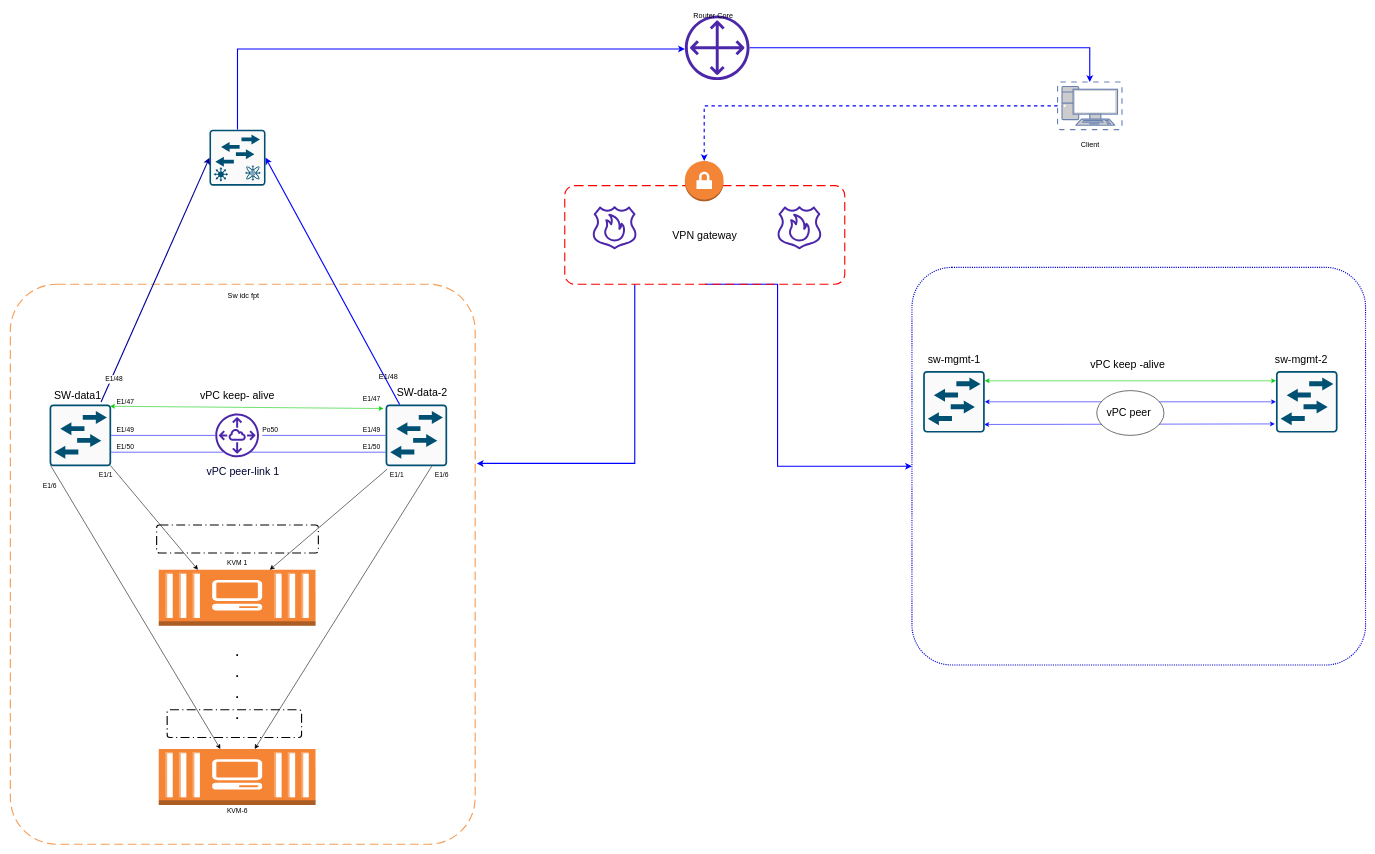
Image size: 1375x854. Some labels were removed from this diagram. The shapes that lost their labels are listed below. From the top down, each one's box as (x1, y1, x2, y2) in pixels, then its label:
(156, 524, 319, 553): vPortChannel-1
(166, 709, 302, 738): vPortChannel-6
